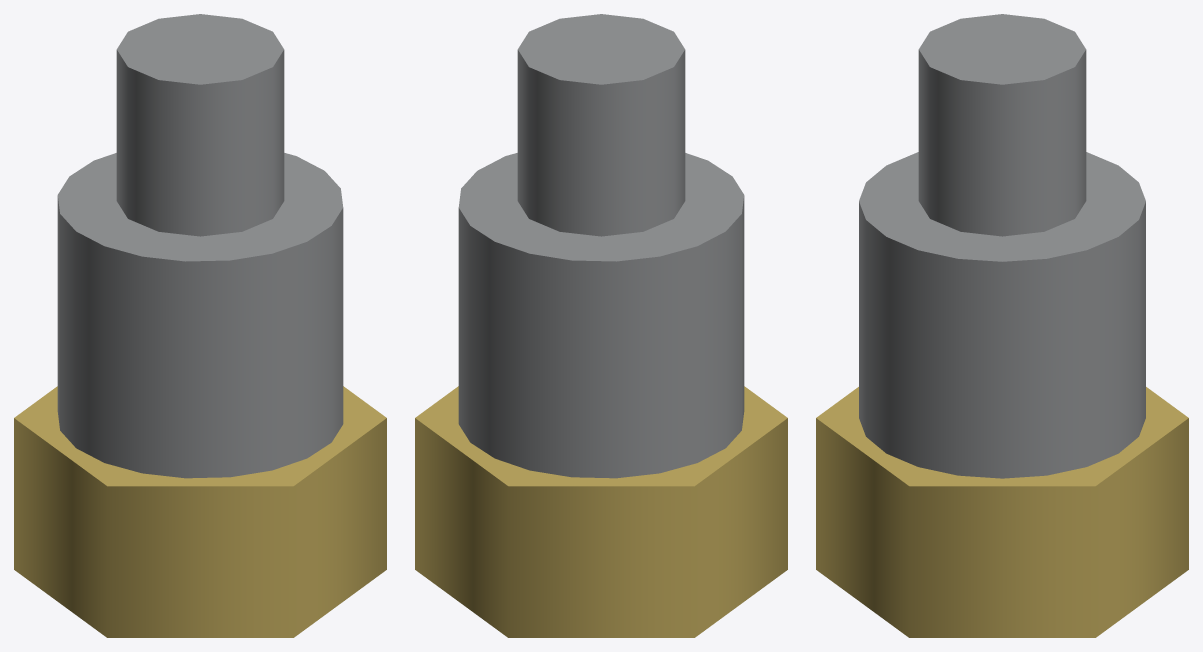
File: air-check-valve.glb
3 views of the same model, side by side, from view 1: azimuth 30°, elevation 25°; view 2: azimuth 150°, elevation 25°; view 3: azimuth 270°, elevation 25° (orthographic).
Parts seen in each view (by area): view 1: air-check-valve:castAlu, air-check-valve:yellowZinc; view 2: air-check-valve:castAlu, air-check-valve:yellowZinc; view 3: air-check-valve:castAlu, air-check-valve:yellowZinc.
Part boxes in pixels (bbox=[...]): air-check-valve:castAlu: bbox=[57, 14, 343, 478]; air-check-valve:yellowZinc: bbox=[14, 386, 386, 637]; air-check-valve:castAlu: bbox=[458, 14, 744, 478]; air-check-valve:yellowZinc: bbox=[415, 386, 787, 637]; air-check-valve:castAlu: bbox=[859, 14, 1145, 478]; air-check-valve:yellowZinc: bbox=[816, 387, 1188, 637].
Size of the model in its own units: 27 by 48 by 31.18.
